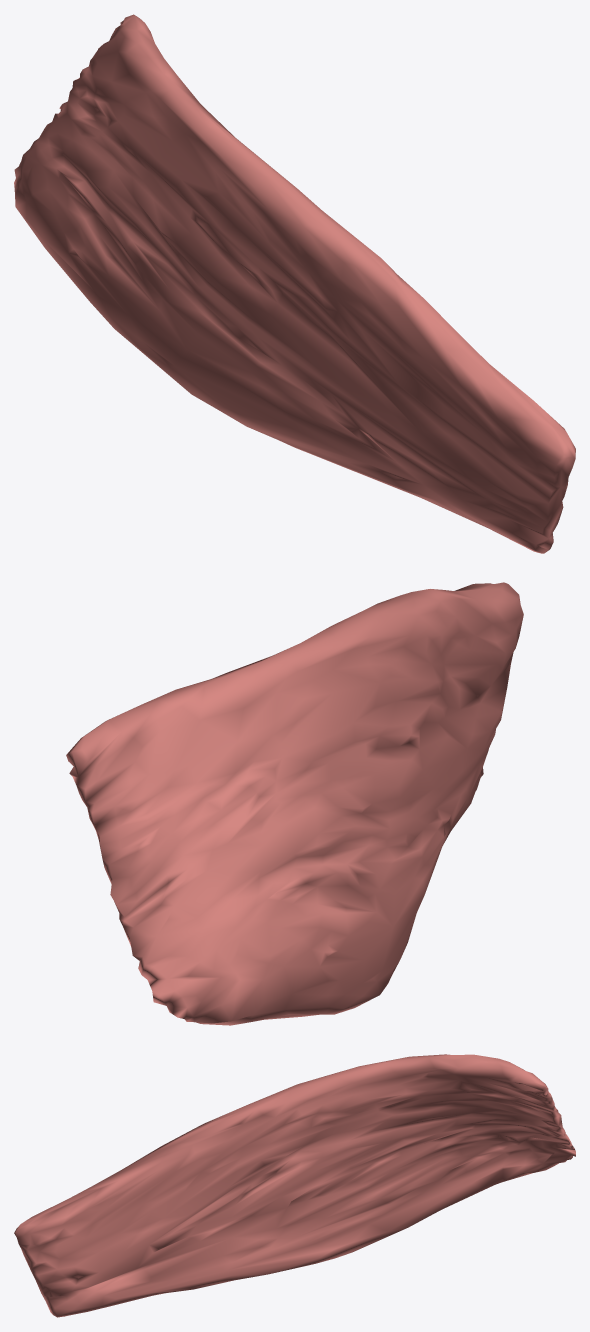
The picture shows the model from 3 angles, top to bottom: view 1: azimuth 30°, elevation 25°; view 2: azimuth 150°, elevation 25°; view 3: azimuth 270°, elevation 25°; orthographic projection. The views are drawn at different scales.
Visible parts, largest first — view 1: ZA_3c606501e3fc016c; view 2: ZA_3c606501e3fc016c; view 3: ZA_3c606501e3fc016c.
Boxes of the visible parts, x1,y1,x2,y2 form: ZA_3c606501e3fc016c: (14, 14, 575, 553); ZA_3c606501e3fc016c: (66, 582, 523, 1025); ZA_3c606501e3fc016c: (14, 1054, 575, 1317).
Size of the model in its own units: 0.00597 by 0.00921 by 0.0208.
